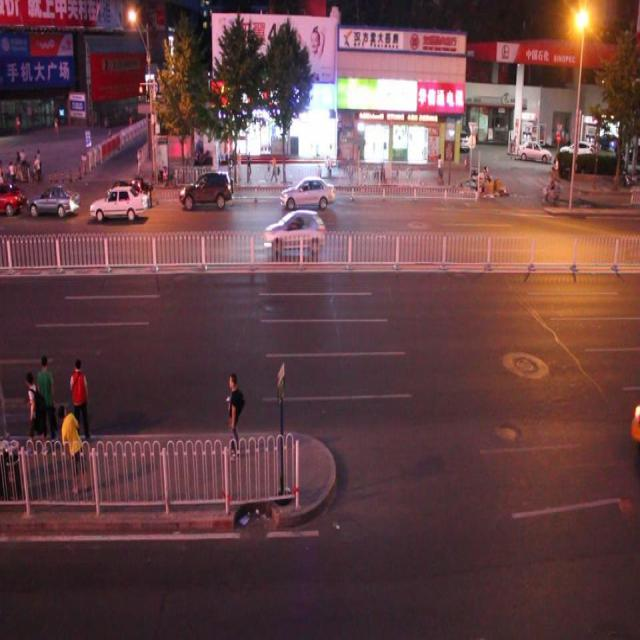car: (258, 206, 332, 266), (169, 167, 246, 215), (275, 170, 346, 215), (86, 176, 142, 231), (23, 178, 83, 224)
